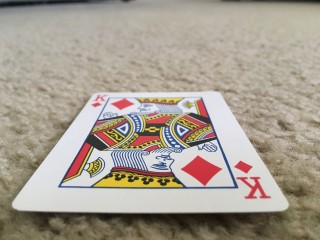KingOfDiamonds: (12, 91, 290, 213)
